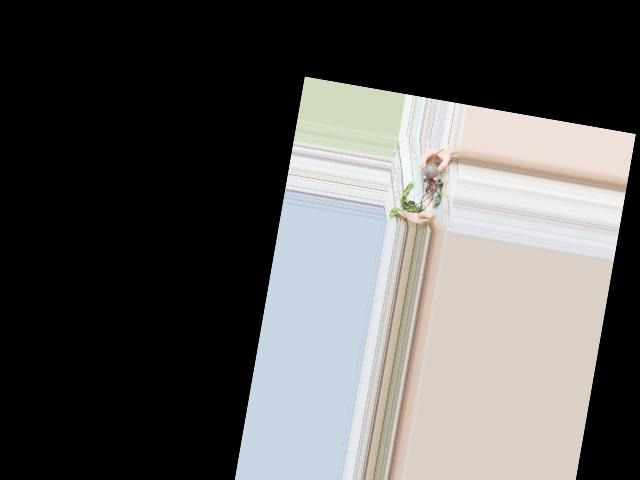beet: (388, 141, 449, 225)
